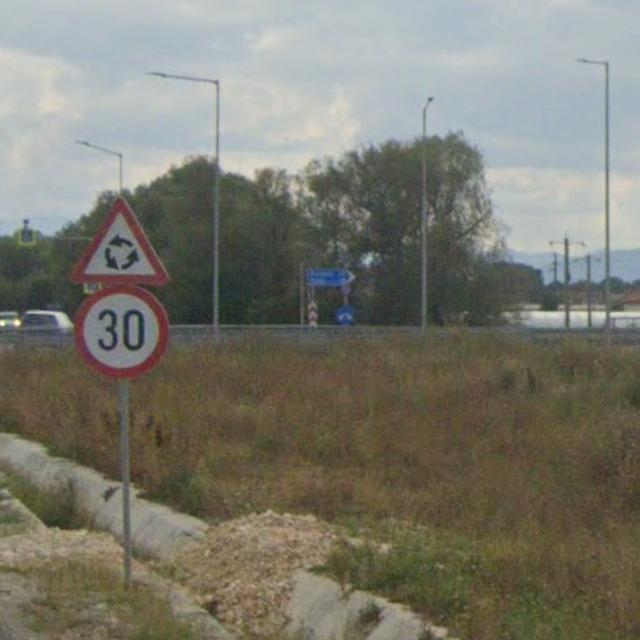forb_speed_over_30: (69, 287, 170, 379)
